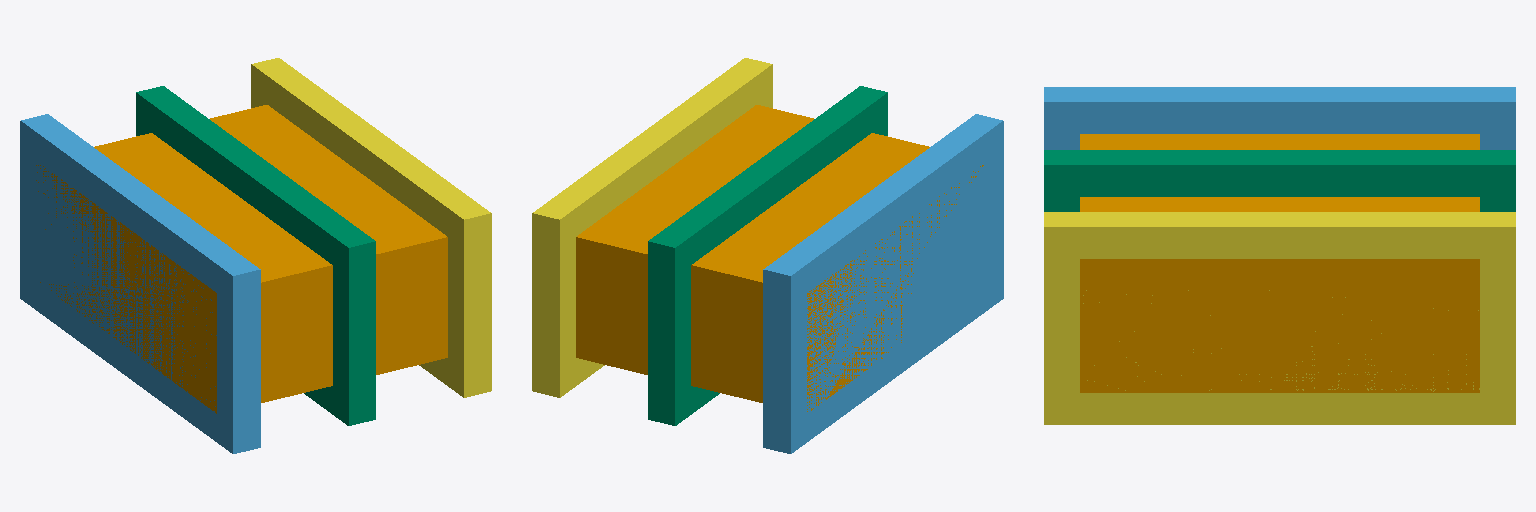
robot.urdf — debris029:
<?xml version="1.0" ?>
<robot name="debris029">

<link name="debris029">
<visual> <origin xyz="0 0 0" rpy="0 0 0" />
<geometry> <box size="0.47 0.57 0.21"/> </geometry>
</visual>
<collision> <origin xyz="0 0 0" rpy="0 0 0" />
<geometry> <box size="0.47 0.57 0.21"/> </geometry>
</collision>
<inertial> <origin xyz="0 0 0" rpy="0 0 0" />
<mass value="10.0" />
<inertia ixx="0.2861" ixy="0" ixz="0" iyy="0.2861" iyz="0" izz="0.2861" />
</inertial>
</link>
<gazebo reference="debris029"> <material>Gazebo/Granite</material> </gazebo>

<link name="debris0290">
<visual> <origin xyz="-0.21 0 0" rpy="0 0 0" />
<geometry> <box size="0.05 0.67 0.31"/> </geometry>
</visual>
<collision> <origin xyz="-0.21 0 0" rpy="0 0 0" />
<geometry> <box size="0.05 0.67 0.31"/> </geometry>
</collision>
<inertial> <origin xyz="0 0 0" rpy="0 0 0" />
<mass value="0.1" />
<inertia ixx="0.0100" ixy="0" ixz="0" iyy="0.0100" iyz="0" izz="0.0100" />
</inertial>
</link>
<gazebo reference="debris0290"> <material>Gazebo/Granite</material> </gazebo>

<joint name="debris0290joint" type="fixed">
<parent link="debris029"/>
<child link="debris0290"/>
<origin xyz="0 0 0" rpy="0 0 0" />
</joint>

<link name="debris0291">
<visual> <origin xyz="0.00 0 0" rpy="0 0 0" />
<geometry> <box size="0.05 0.67 0.31"/> </geometry>
</visual>
<collision> <origin xyz="0.00 0 0" rpy="0 0 0" />
<geometry> <box size="0.05 0.67 0.31"/> </geometry>
</collision>
<inertial> <origin xyz="0 0 0" rpy="0 0 0" />
<mass value="0.1" />
<inertia ixx="0.0100" ixy="0" ixz="0" iyy="0.0100" iyz="0" izz="0.0100" />
</inertial>
</link>
<gazebo reference="debris0291"> <material>Gazebo/Granite</material> </gazebo>

<joint name="debris0291joint" type="fixed">
<parent link="debris029"/>
<child link="debris0291"/>
<origin xyz="0 0 0" rpy="0 0 0" />
</joint>

<link name="debris0292">
<visual> <origin xyz="0.21 0 0" rpy="0 0 0" />
<geometry> <box size="0.05 0.67 0.31"/> </geometry>
</visual>
<collision> <origin xyz="0.21 0 0" rpy="0 0 0" />
<geometry> <box size="0.05 0.67 0.31"/> </geometry>
</collision>
<inertial> <origin xyz="0 0 0" rpy="0 0 0" />
<mass value="0.1" />
<inertia ixx="0.0100" ixy="0" ixz="0" iyy="0.0100" iyz="0" izz="0.0100" />
</inertial>
</link>
<gazebo reference="debris0292"> <material>Gazebo/Granite</material> </gazebo>

<joint name="debris0292joint" type="fixed">
<parent link="debris029"/>
<child link="debris0292"/>
<origin xyz="0 0 0" rpy="0 0 0" />
</joint>

</robot>

--- Render facts (derived) ---
3 views of the same robot in one strip: view 1: azimuth 30°, elevation 25°; view 2: azimuth 150°, elevation 25°; view 3: azimuth 270°, elevation 25° (orthographic).
Model debris029 with 4 links and 3 joints (3 fixed), rooted at debris029, posed every joint at zero.
Links seen in each view (by area): view 1: debris029, debris0290, debris0292, debris0291; view 2: debris0290, debris029, debris0292, debris0291; view 3: debris029, debris0292, debris0290, debris0291.
Boxes of the visible links, bbox=[...] form: debris029: bbox=[36, 105, 447, 413]; debris0290: bbox=[20, 114, 260, 453]; debris0292: bbox=[251, 58, 491, 397]; debris0291: bbox=[136, 86, 375, 425]; debris0290: bbox=[763, 114, 1003, 453]; debris029: bbox=[576, 105, 983, 411]; debris0292: bbox=[532, 58, 772, 397]; debris0291: bbox=[648, 86, 887, 425]; debris029: bbox=[1080, 134, 1479, 392]; debris0292: bbox=[1044, 212, 1515, 424]; debris0290: bbox=[1044, 87, 1515, 149]; debris0291: bbox=[1044, 150, 1515, 211].
Size in the robot's own frame: 0.47 by 0.67 by 0.31 metres.
Geometry: primitives only (box / cylinder / sphere), no mesh files.
